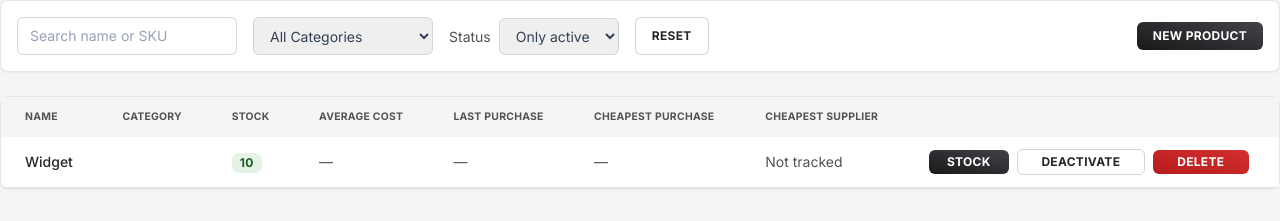
ProductListComponent Status column visibility (issue #828) › shows the Status header and cells once "All" is selected, with the toggle still usable
This screenshot has width=1280, height=221.
Select "All" in the dropdown named "statusFilter". click: (559, 36)
box: top-left (499, 18), bottom-right (619, 54)
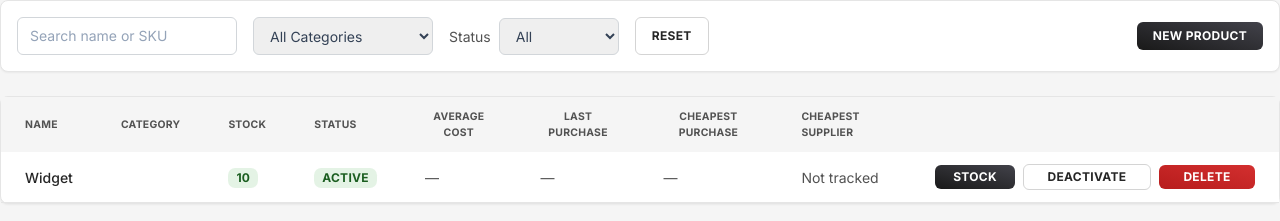
Result: the button "Active" is enabled at top-left (314, 168), bottom-right (377, 188)
